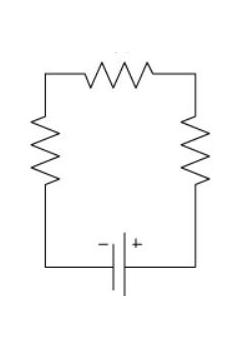resistor: (14, 95, 67, 206), (165, 100, 219, 193), (69, 50, 167, 94)
